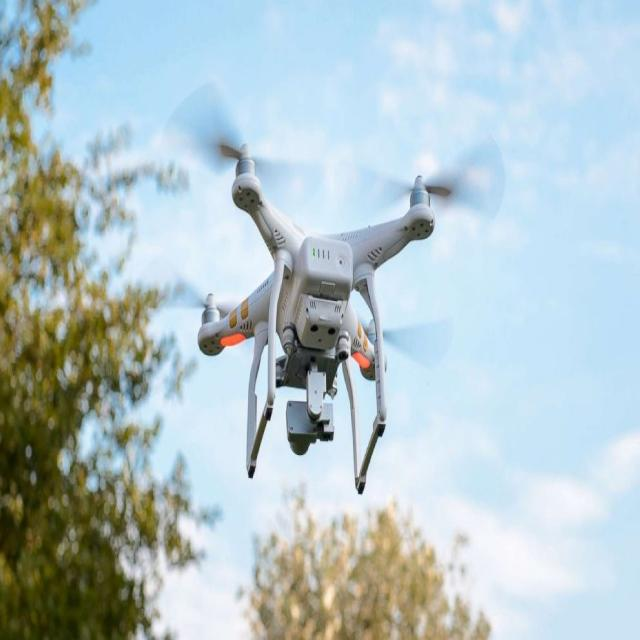drone: (183, 112, 474, 456)
